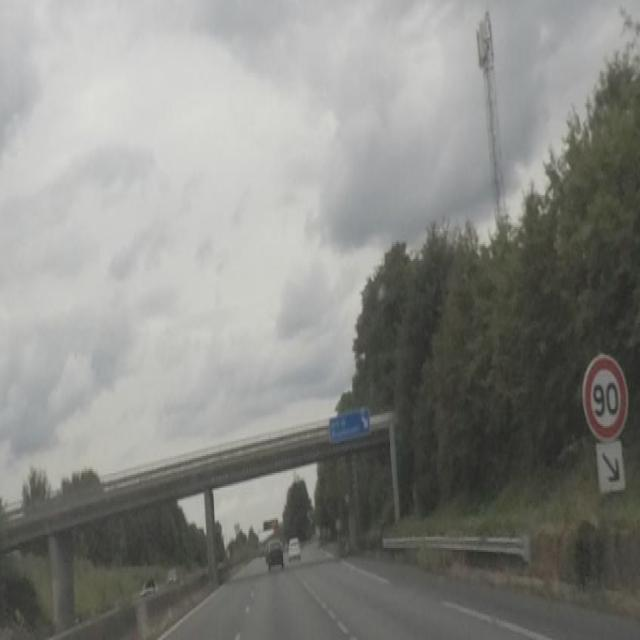speed_90: (585, 355, 627, 440)
